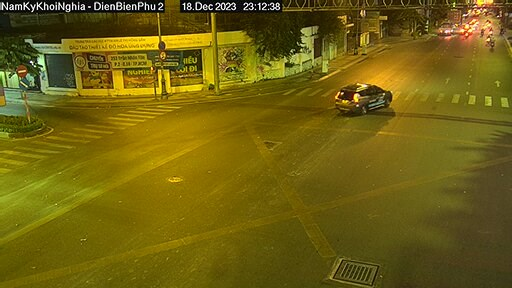car: (334, 79, 395, 115)
